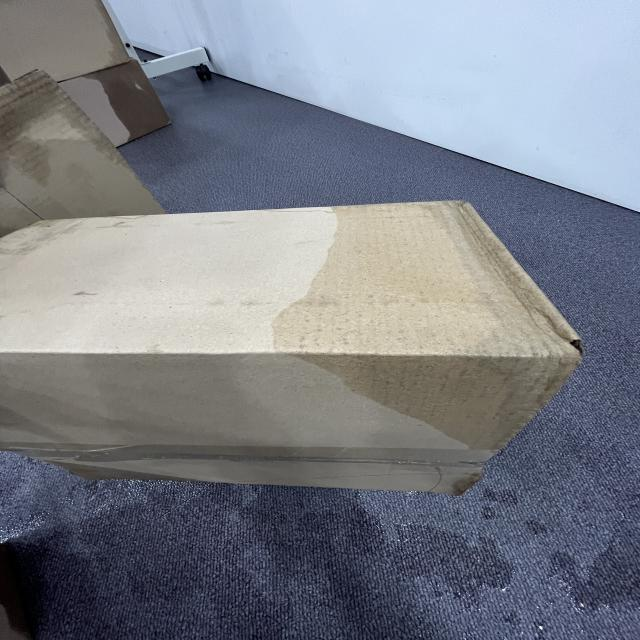wet: (294, 211, 564, 452)
